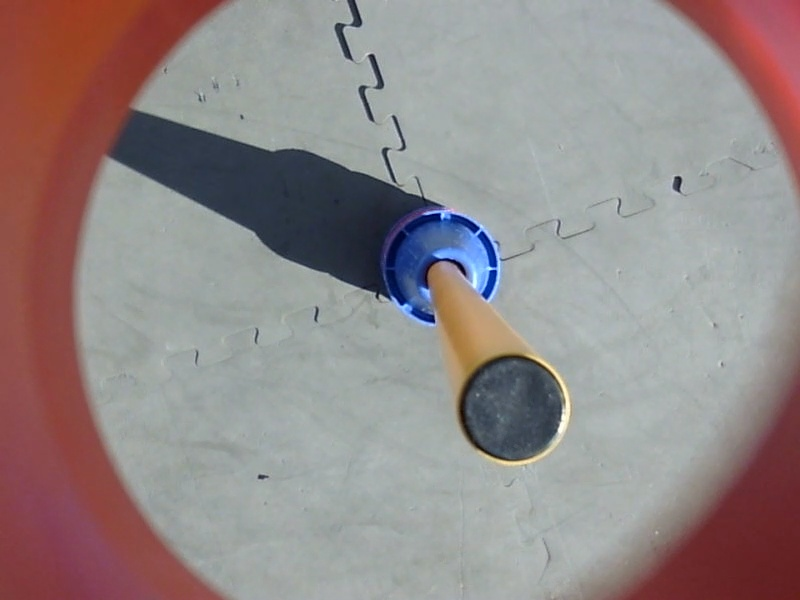tip: (450, 350, 577, 471)
